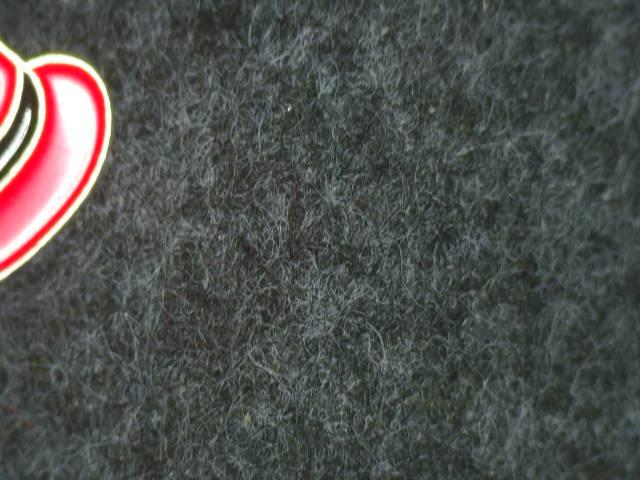Red-Hat: (0, 29, 145, 302)
